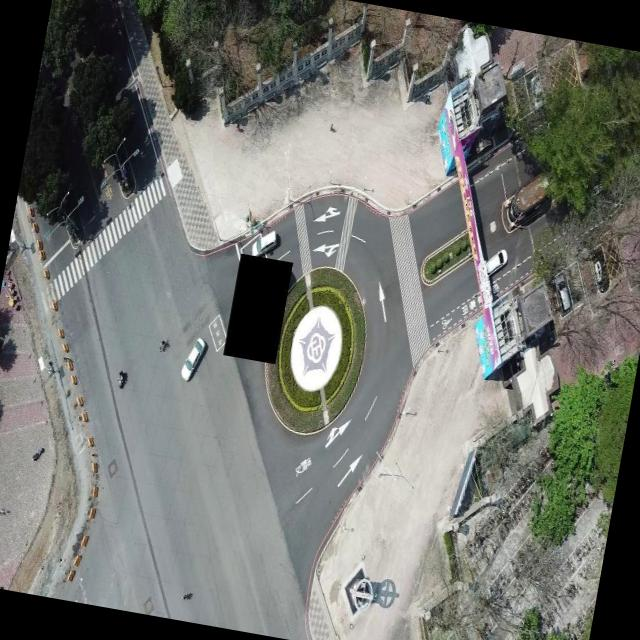bike: (115, 367, 128, 388), (156, 336, 168, 354), (181, 587, 193, 600)
car: (547, 272, 578, 316), (180, 334, 207, 382), (249, 225, 281, 258), (483, 244, 509, 278), (590, 258, 610, 293)
